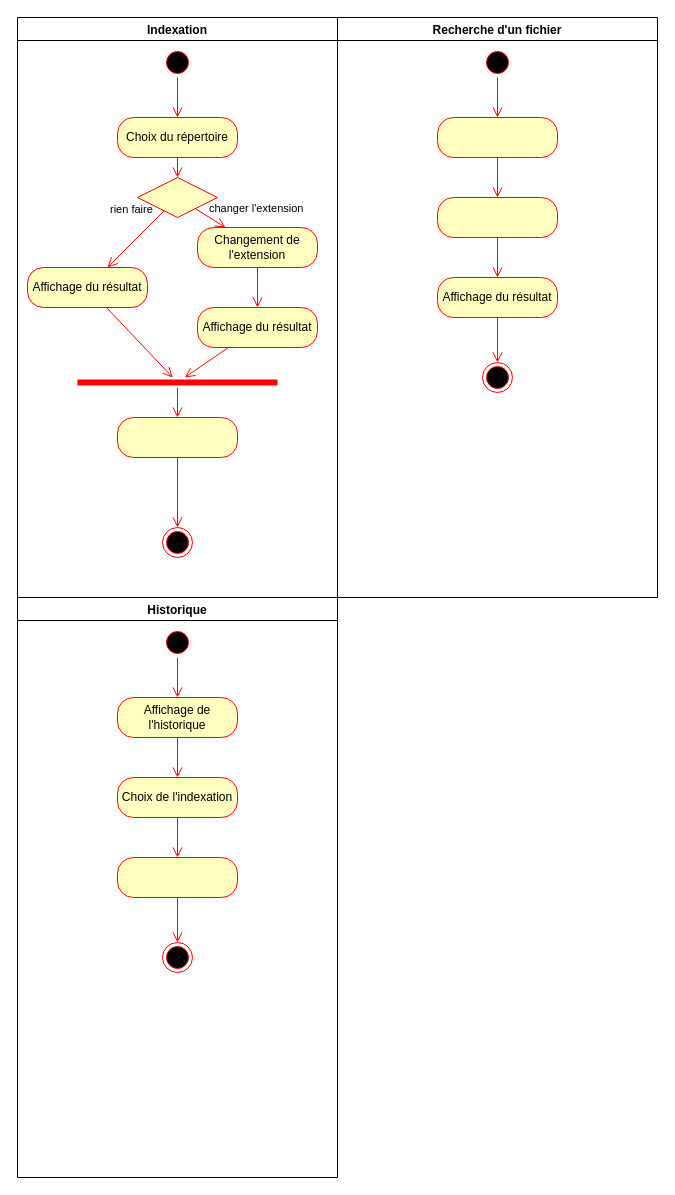
This 675x1195 diagram has some shape labels left out. Here are the shapes that lost their labels. From the top down, the centre of each, then its label:
(x=497, y=137): Réception de la saisie
(x=177, y=197): Condition
(x=497, y=217): Recherche de fichier/dossier indexer correspondant
(x=177, y=437): Indexation du dossier choisit
(x=177, y=877): Affichage du résultat de l'indexation choisi
